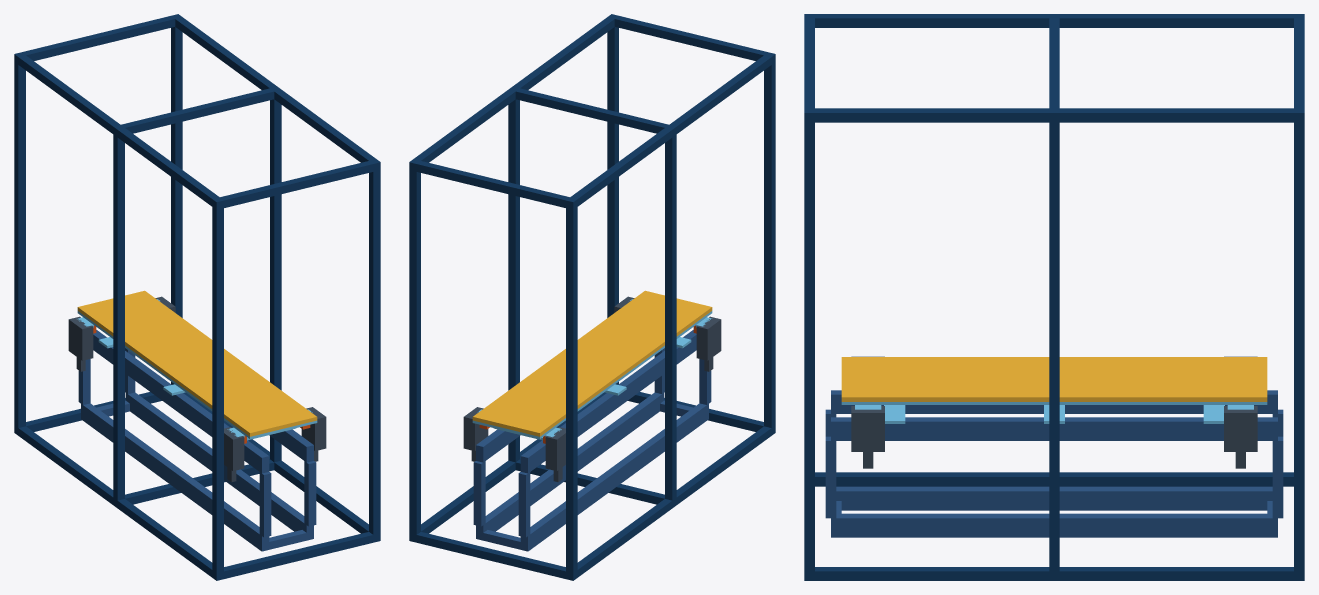
The model's file is HR-V0_passive-arm-receiver-detail-review.glb.
The picture shows the model from 3 angles, left to right: view 1: azimuth 30°, elevation 25°; view 2: azimuth 150°, elevation 25°; view 3: azimuth 270°, elevation 25°; orthographic projection. The views are drawn at different scales.
Parts seen in each view (by area): view 1: POST-01, POST-03, POST-02, POST-05, SORbothane-0212037-50-10-CUT-1, 20-2040-BOTTOM-RAIL-1, SORbothane-0212037-50-10-CUT-2, POST-06, SORbothane-0212037-50-10-CUT-3, 20-2040-BOTTOM-RAIL-2, POST-04, YRAIL-FRONT-TOP (+19 smaller); view 2: POST-02, POST-04, POST-01, POST-05, SORbothane-0212037-50-10-CUT-3, 20-2040-BOTTOM-RAIL-1, SORbothane-0212037-50-10-CUT-2, POST-06, SORbothane-0212037-50-10-CUT-1, 20-2040-BOTTOM-RAIL-2, POST-03, YRAIL-FRONT-TOP (+19 smaller); view 3: 20-2040-BOTTOM-RAIL-2, 20-2040-BOTTOM-RAIL-1, 20-2040-TOP-RAIL-2, YRAIL-REAR-TOP, YRAIL-FRONT-BOT, YRAIL-REAR-BOT, YRAIL-FRONT-TOP, SORbothane-0212037-50-10-CUT-1, SORbothane-0212037-50-10-CUT-3, SORbothane-0212037-50-10-CUT-2, POST-03, POST-04 (+10 smaller).
Boxes of the visible parts, x1,y1,x2,y2 form: POST-01: (212, 197, 223, 580); POST-03: (369, 159, 380, 542); POST-02: (14, 52, 25, 435); POST-05: (113, 125, 124, 507); SORbothane-0212037-50-10-CUT-1: (192, 374, 317, 436); 20-2040-BOTTOM-RAIL-1: (81, 403, 269, 551); SORbothane-0212037-50-10-CUT-2: (135, 332, 259, 394); POST-06: (270, 86, 281, 462); SORbothane-0212037-50-10-CUT-3: (77, 290, 201, 352); 20-2040-BOTTOM-RAIL-2: (125, 392, 313, 540); POST-04: (171, 14, 182, 384); YRAIL-FRONT-TOP: (18, 55, 219, 206); POST-02: (566, 197, 577, 580); POST-04: (409, 159, 420, 542); POST-01: (764, 52, 775, 435); POST-05: (665, 125, 676, 508); SORbothane-0212037-50-10-CUT-3: (472, 374, 597, 436); 20-2040-BOTTOM-RAIL-1: (520, 403, 708, 551); SORbothane-0212037-50-10-CUT-2: (530, 332, 654, 394); POST-06: (508, 87, 519, 462); SORbothane-0212037-50-10-CUT-1: (588, 290, 712, 352); 20-2040-BOTTOM-RAIL-2: (476, 392, 664, 540); POST-03: (607, 14, 618, 384); YRAIL-FRONT-TOP: (570, 55, 771, 206); 20-2040-BOTTOM-RAIL-2: (831, 513, 1277, 537); 20-2040-BOTTOM-RAIL-1: (836, 486, 1272, 510); 20-2040-TOP-RAIL-2: (831, 417, 1277, 440); YRAIL-REAR-TOP: (815, 108, 1293, 122); YRAIL-FRONT-BOT: (815, 472, 1293, 486); YRAIL-REAR-BOT: (815, 567, 1293, 580); YRAIL-FRONT-TOP: (815, 14, 1293, 27); SORbothane-0212037-50-10-CUT-1: (841, 357, 983, 401); SORbothane-0212037-50-10-CUT-3: (1125, 357, 1267, 401); SORbothane-0212037-50-10-CUT-2: (983, 357, 1125, 401); POST-03: (804, 108, 814, 580); POST-04: (1294, 108, 1304, 580).
Size of the model in its own units: 440 by 970 by 940.
